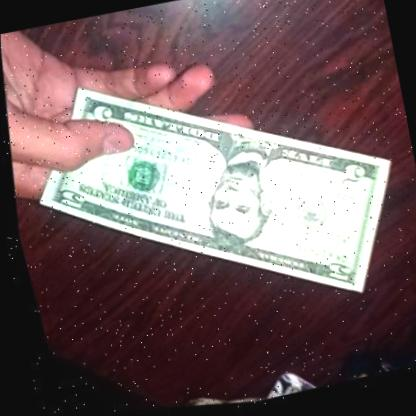five-front: (0, 9, 416, 370)
